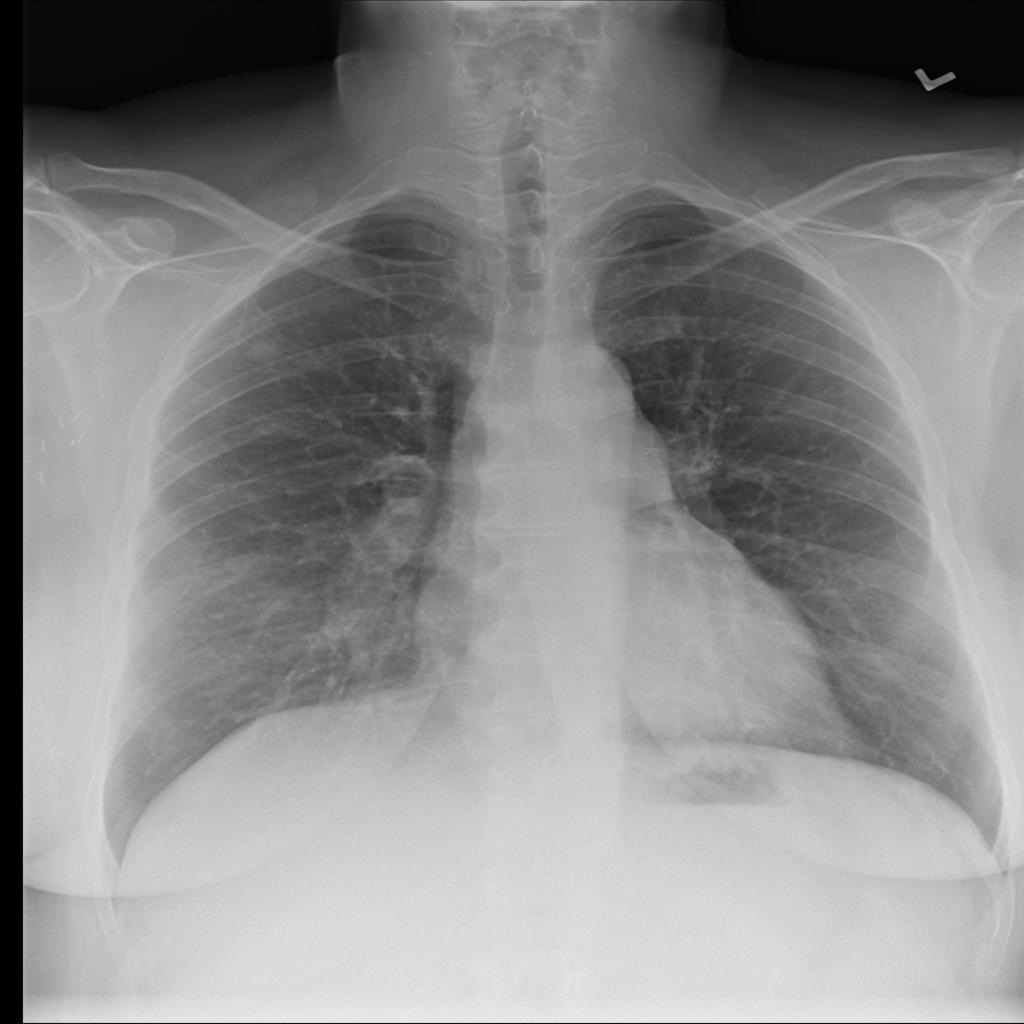nodule: (233, 329, 295, 371)
